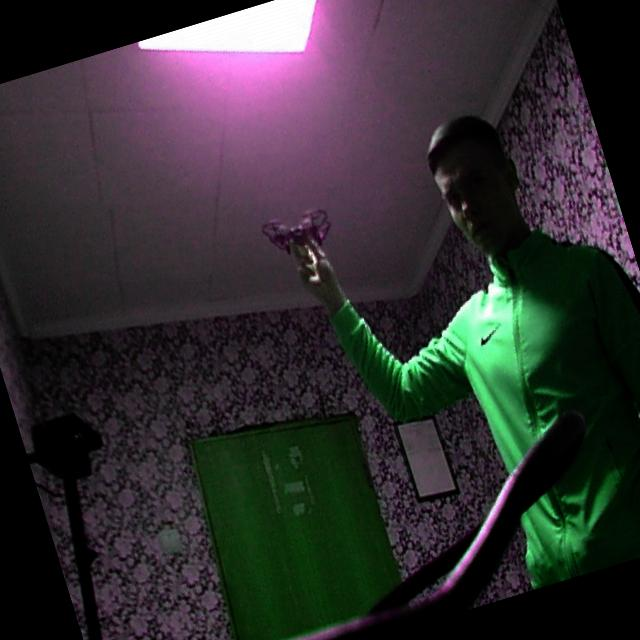drone: (256, 191, 340, 269)
